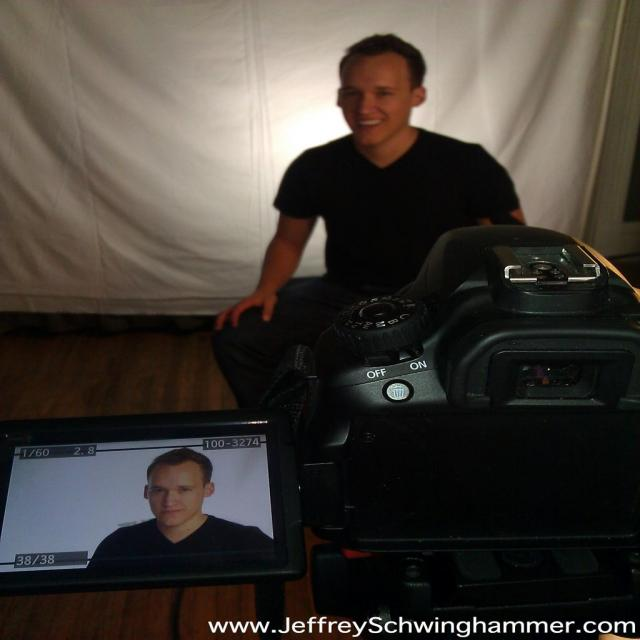nomask: (338, 56, 413, 148), (150, 462, 202, 520)
